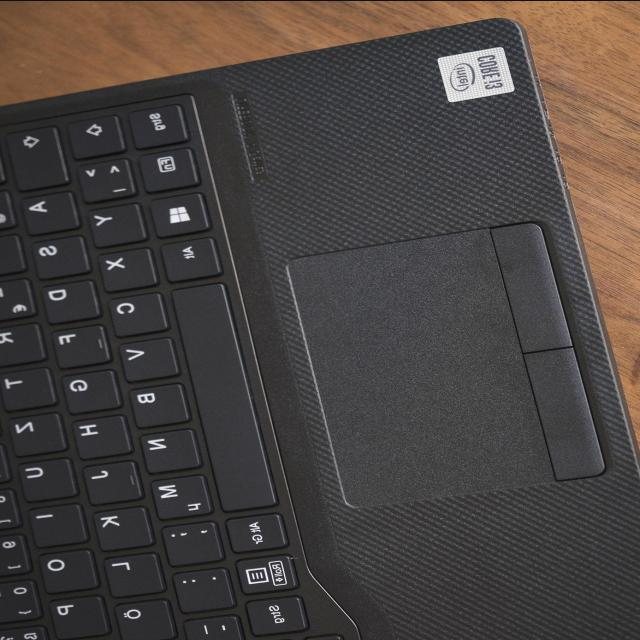0: (0, 576, 39, 622)
9: (1, 530, 31, 576)
a: (20, 191, 78, 235)
alt-left: (158, 235, 219, 281)
altgr-right: (223, 512, 285, 552)
b: (127, 381, 187, 427)
c: (106, 290, 166, 336)
comma: (158, 520, 221, 566)
d: (43, 277, 101, 321)
e: (0, 276, 33, 319)
f: (49, 323, 107, 367)
g: (60, 367, 119, 412)
h: (71, 413, 130, 457)
i: (26, 503, 86, 546)
j: (80, 459, 140, 503)
k: (91, 505, 151, 549)
keyboard: (0, 73, 364, 640)
l: (101, 551, 162, 595)
less: (74, 156, 134, 202)
m: (147, 473, 211, 518)
minus: (180, 613, 243, 640)
n: (137, 427, 198, 472)
o: (36, 547, 96, 591)
oe: (113, 597, 174, 640)
p: (47, 594, 107, 638)
point: (169, 567, 232, 612)
r: (0, 321, 47, 364)
s: (30, 234, 88, 278)
shift-left: (64, 113, 124, 157)
shift-lock: (0, 124, 66, 189)
space: (168, 282, 277, 509)
ss: (0, 623, 48, 640)
strg-left: (125, 101, 187, 147)
strg-right: (242, 594, 306, 635)
t: (0, 365, 56, 409)
u: (16, 456, 76, 500)
v: (116, 335, 176, 380)
x: (95, 246, 155, 291)
y: (86, 202, 145, 246)
z: (6, 411, 64, 455)
